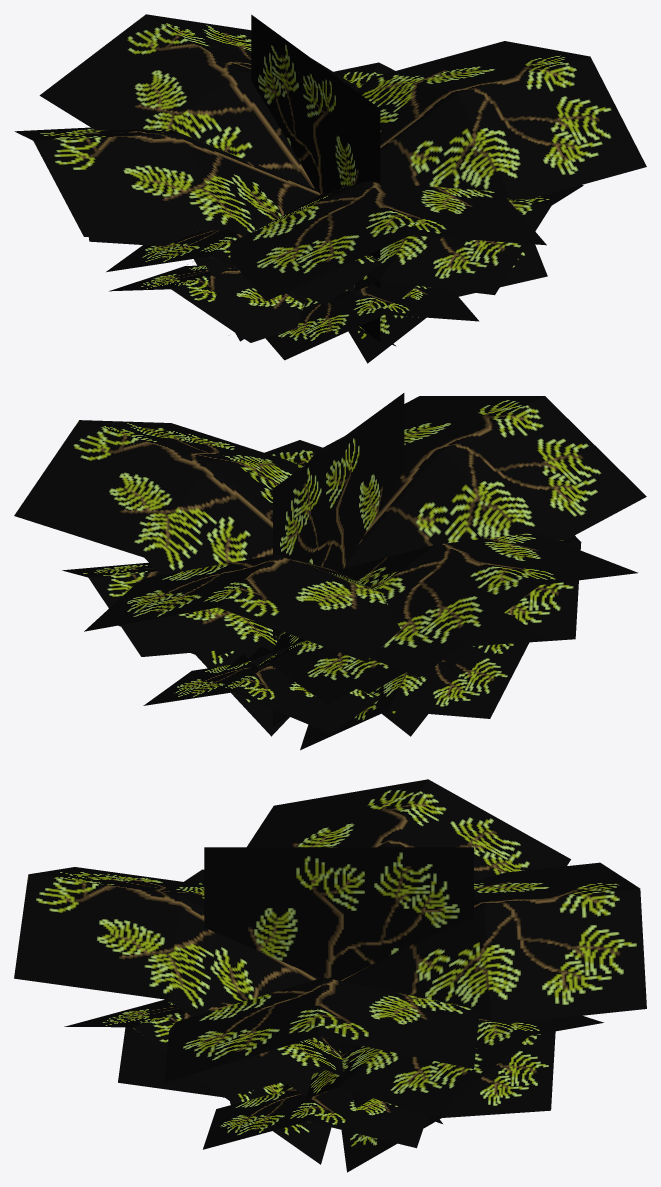
File: Bush.obj
3 renders of one model, top to bottom at view 1: azimuth 30°, elevation 25°; view 2: azimuth 150°, elevation 25°; view 3: azimuth 270°, elevation 25°, orthographic. The views are drawn at different scales.
Parts seen in each view (by area): view 1: Bush_Plane.027; view 2: Bush_Plane.027; view 3: Bush_Plane.027.
Part boxes in pixels (left/top/right/bottom): Bush_Plane.027: left=14, top=14, right=646, bottom=363; Bush_Plane.027: left=14, top=393, right=646, bottom=750; Bush_Plane.027: left=14, top=779, right=646, bottom=1172.
Bounding box in the file's own units: 9.12 × 4.35 × 9.07.
